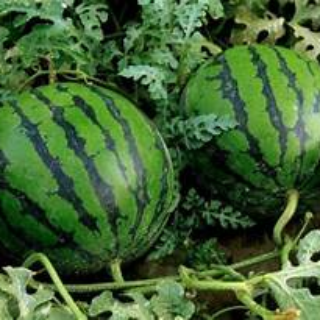dua_hau: (1, 77, 184, 280), (176, 41, 320, 218)
